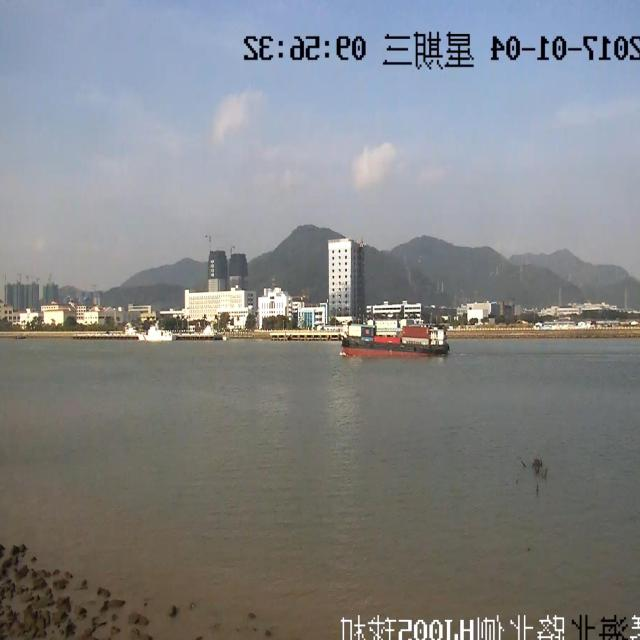cargoship: (337, 306, 455, 354)
